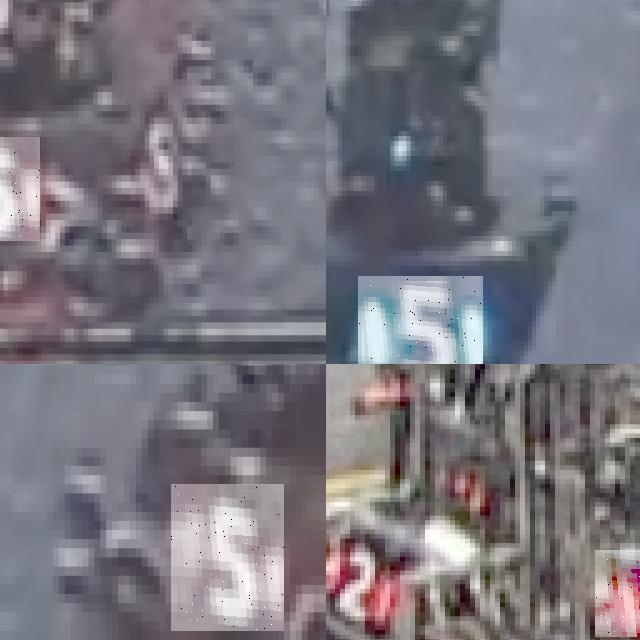B5: (357, 276, 483, 364)
R2: (326, 533, 397, 625), (595, 550, 640, 637)
R5: (171, 484, 284, 631), (0, 136, 39, 241)
